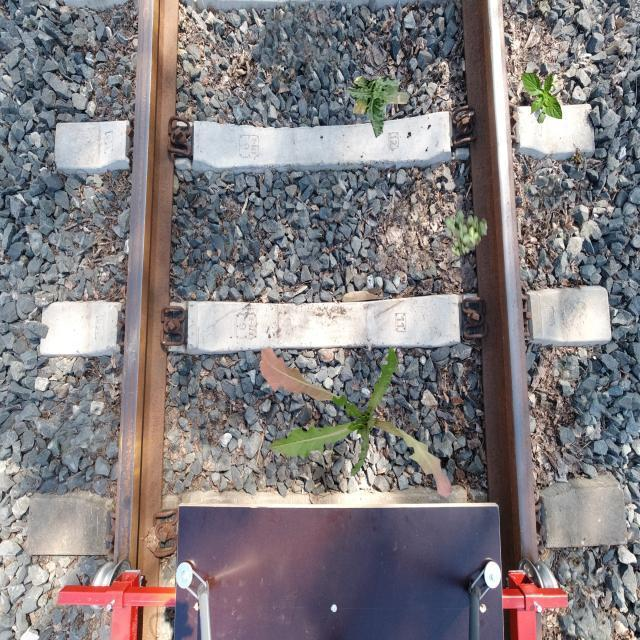Plant: (259, 346, 452, 498), (347, 76, 410, 138), (444, 209, 488, 259), (521, 71, 562, 124)
